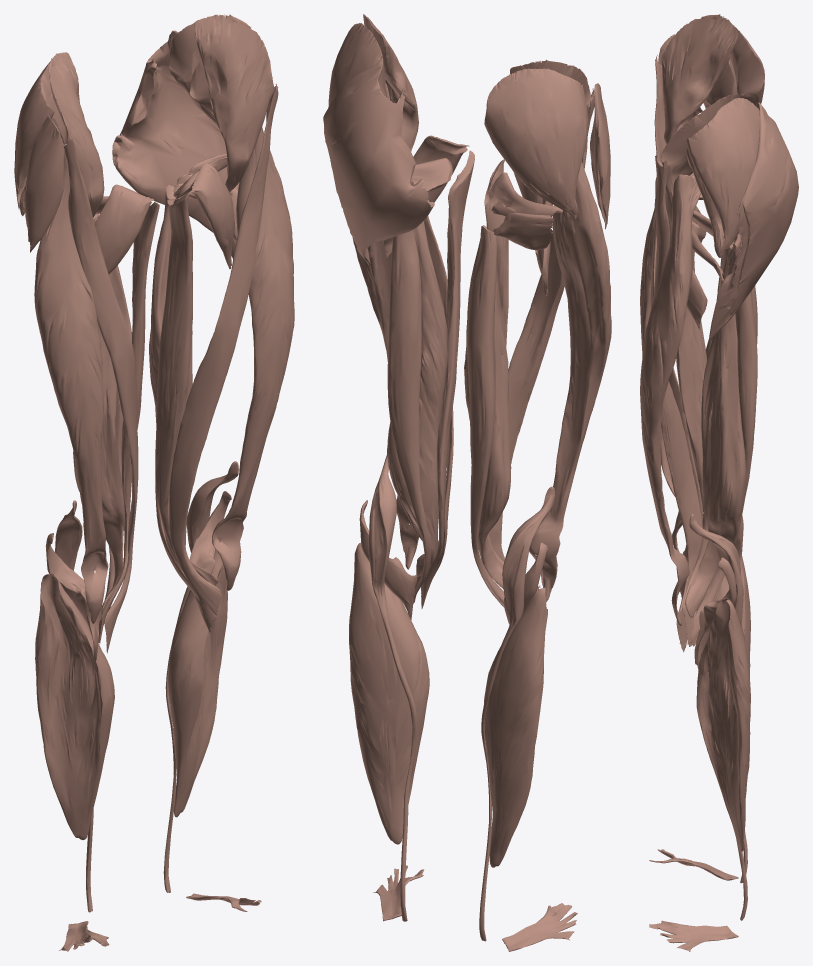
Rendered from other-17.glb.
The picture shows the model from 3 angles, left to right: view 1: azimuth 30°, elevation 25°; view 2: azimuth 150°, elevation 25°; view 3: azimuth 270°, elevation 25°; orthographic projection. The views are drawn at different scales.
Visible parts, largest first — view 1: FJ1433, FJ1437, FJ1433M, FJ1434M, FJ1418M, FJ1437M, FJ1422M, FJ1421M, FJ1434, FJ1435, FJ1421, FJ1438 (+13 smaller); view 2: FJ1437M, FJ1433, FJ1418M, FJ1419, FJ1437, FJ1436M, FJ1435M, FJ1436, FJ1434, FJ1435, FJ1421M, FJ1429M (+17 smaller); view 3: FJ1433M, FJ1435M, FJ1437M, FJ1418M, FJ1419M, FJ1422, FJ1434M, FJ1421M, FJ1436M, FJ1422M, FJ1434, FJ1433 (+10 smaller).
Boxes of the visible parts, x1=… form: FJ1433: x1=34, y1=154, x2=108, y2=623; FJ1437: x1=35, y1=573, x2=114, y2=839; FJ1433M: x1=212, y1=127, x2=294, y2=590; FJ1434M: x1=169, y1=83, x2=278, y2=627; FJ1418M: x1=112, y1=30, x2=239, y2=259; FJ1437M: x1=168, y1=540, x2=227, y2=817; FJ1422M: x1=194, y1=14, x2=274, y2=192; FJ1421M: x1=155, y1=193, x2=218, y2=586; FJ1434: x1=61, y1=134, x2=138, y2=653; FJ1435: x1=73, y1=218, x2=131, y2=614; FJ1421: x1=99, y1=202, x2=159, y2=644; FJ1438: x1=24, y1=115, x2=64, y2=252; FJ1437M: x1=349, y1=542, x2=429, y2=844; FJ1433: x1=529, y1=161, x2=611, y2=601; FJ1418M: x1=323, y1=62, x2=434, y2=264; FJ1419: x1=484, y1=68, x2=587, y2=215; FJ1437: x1=484, y1=585, x2=547, y2=867; FJ1436M: x1=387, y1=229, x2=431, y2=603; FJ1435M: x1=387, y1=221, x2=447, y2=576; FJ1436: x1=467, y1=226, x2=504, y2=607; FJ1434: x1=489, y1=88, x2=594, y2=561; FJ1435: x1=464, y1=225, x2=511, y2=588; FJ1421M: x1=414, y1=150, x2=474, y2=602; FJ1429M: x1=368, y1=448, x2=417, y2=921; FJ1433M: x1=640, y1=174, x2=700, y2=625; FJ1435M: x1=685, y1=243, x2=746, y2=617; FJ1437M: x1=696, y1=598, x2=750, y2=852; FJ1418M: x1=708, y1=102, x2=798, y2=341; FJ1419M: x1=686, y1=98, x2=759, y2=253; FJ1422: x1=661, y1=14, x2=737, y2=175; FJ1434M: x1=653, y1=152, x2=702, y2=652; FJ1421M: x1=676, y1=221, x2=708, y2=646; FJ1436M: x1=689, y1=237, x2=757, y2=646; FJ1422M: x1=661, y1=93, x2=737, y2=281; FJ1434: x1=650, y1=55, x2=703, y2=597; FJ1433: x1=640, y1=107, x2=702, y2=551.
Size of the model in its own units: 0.3145 by 1.02 by 0.1723.
